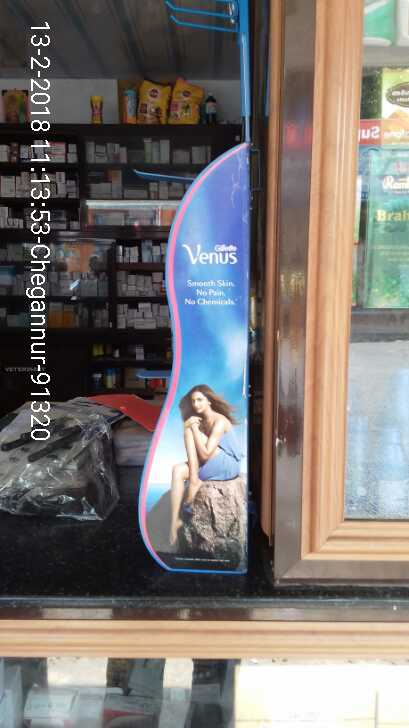reject: (128, 188, 202, 266)
